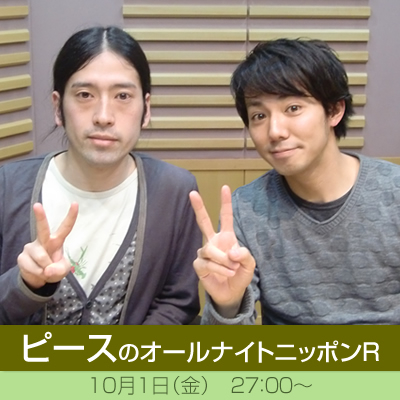face: (53, 47, 151, 163), (247, 82, 345, 175)
hand: (187, 184, 255, 305), (17, 201, 78, 287)
